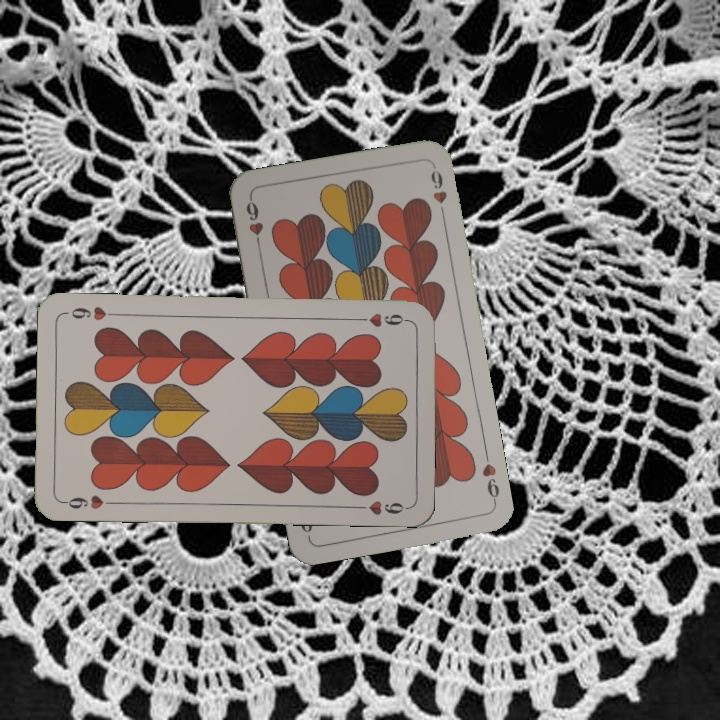H9: (242, 194, 266, 253), (478, 448, 502, 507), (59, 491, 118, 512), (352, 309, 411, 330)
